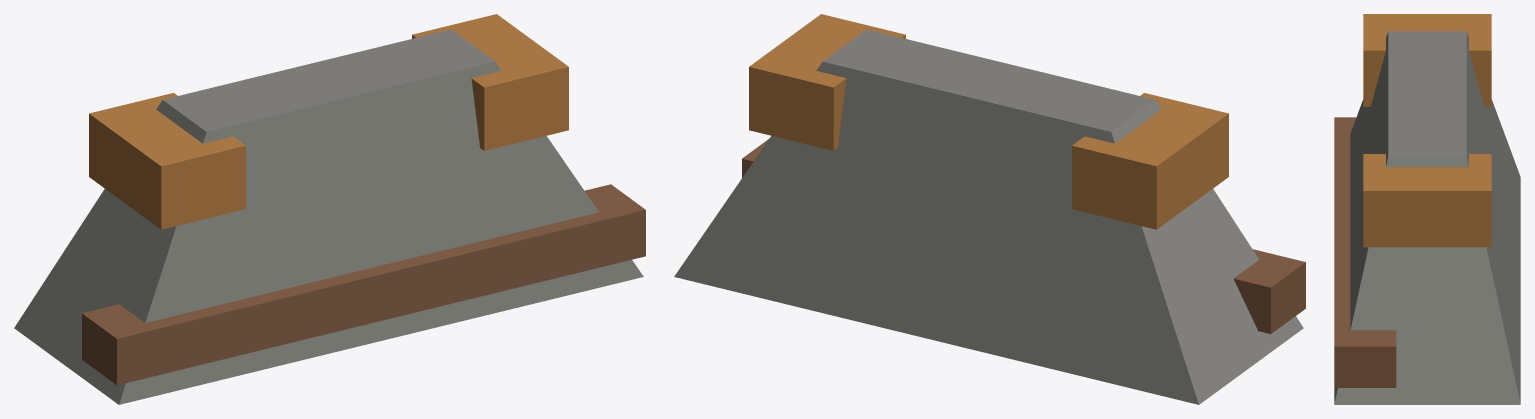
File: barrier.glb
3 renders of one model, left to right at view 1: azimuth 30°, elevation 25°; view 2: azimuth 150°, elevation 25°; view 3: azimuth 270°, elevation 25°, orthographic. The views are drawn at different scales.
Parts seen in each view (by area): view 1: body, scuff, stripe, stripe2; view 2: body, stripe, stripe2, scuff; view 3: body, stripe2, scuff, stripe.
Boxes of the visible parts, x1,y1,x2,y2 form: body: [14, 29, 643, 404]; scuff: [82, 184, 645, 385]; stripe: [89, 93, 245, 229]; stripe2: [412, 14, 568, 150]; body: [674, 29, 1303, 404]; stripe: [1072, 93, 1228, 229]; stripe2: [749, 14, 905, 150]; scuff: [742, 139, 1305, 333]; body: [1334, 31, 1520, 404]; stripe2: [1363, 154, 1491, 247]; scuff: [1334, 117, 1396, 387]; stripe: [1363, 14, 1491, 106].
Bounding box in the file's own units: 2.62 × 1.05 × 0.9.
